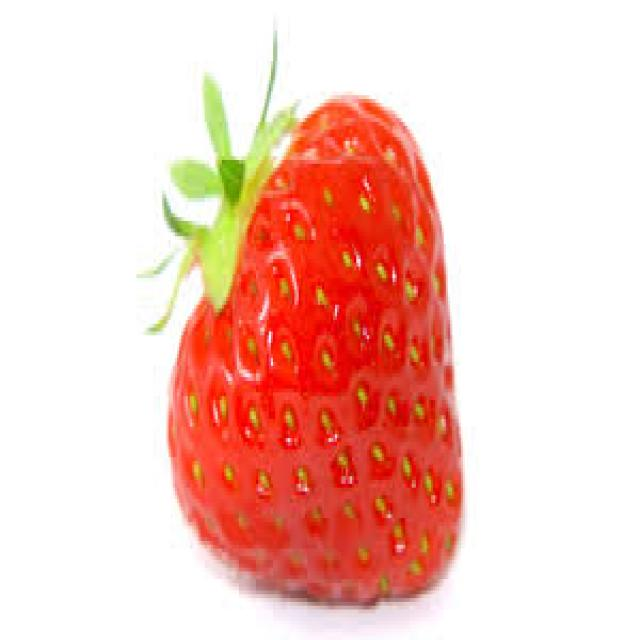strawberry: (146, 51, 479, 606)
